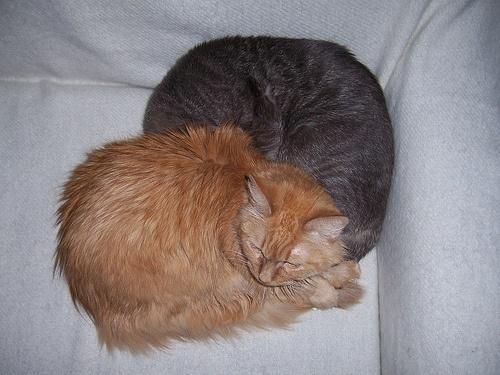cat: (59, 124, 362, 355), (143, 34, 395, 263)
